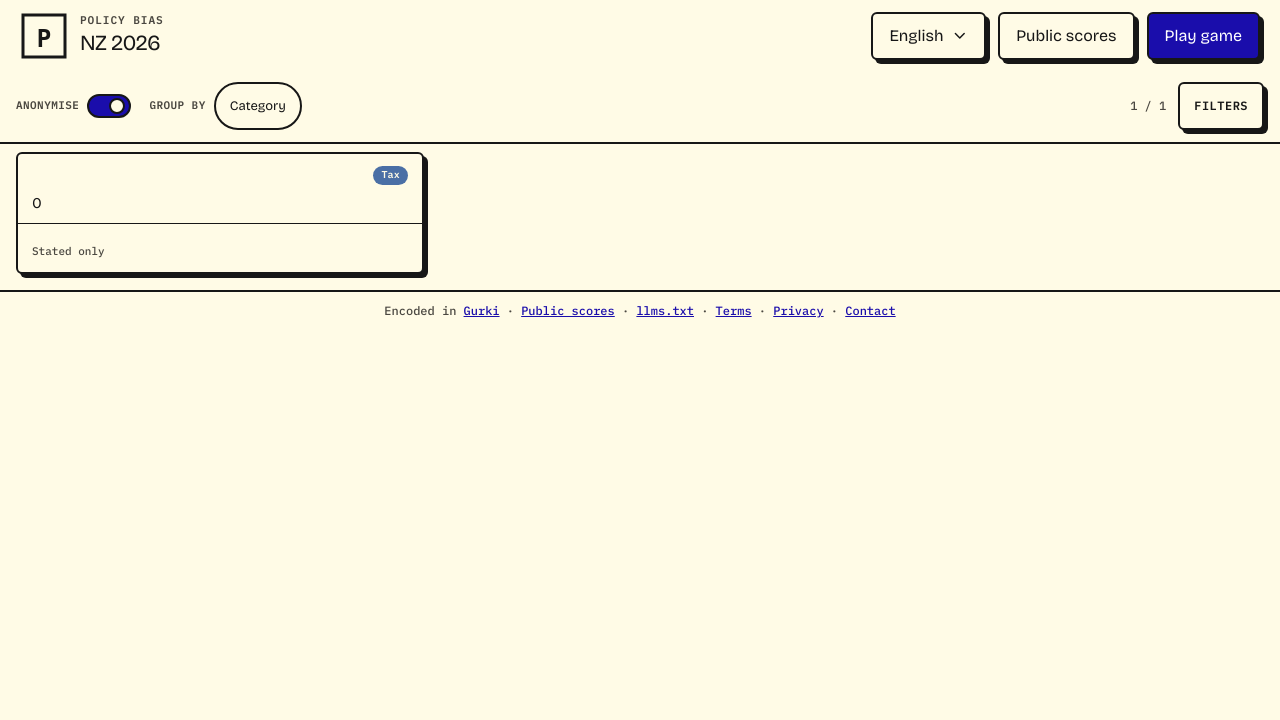
Test case: App game route › plays the game on its own url, not as a board overlay
Click the link "Play game". click: click(1203, 36)
box: [1146,12,1260,60]
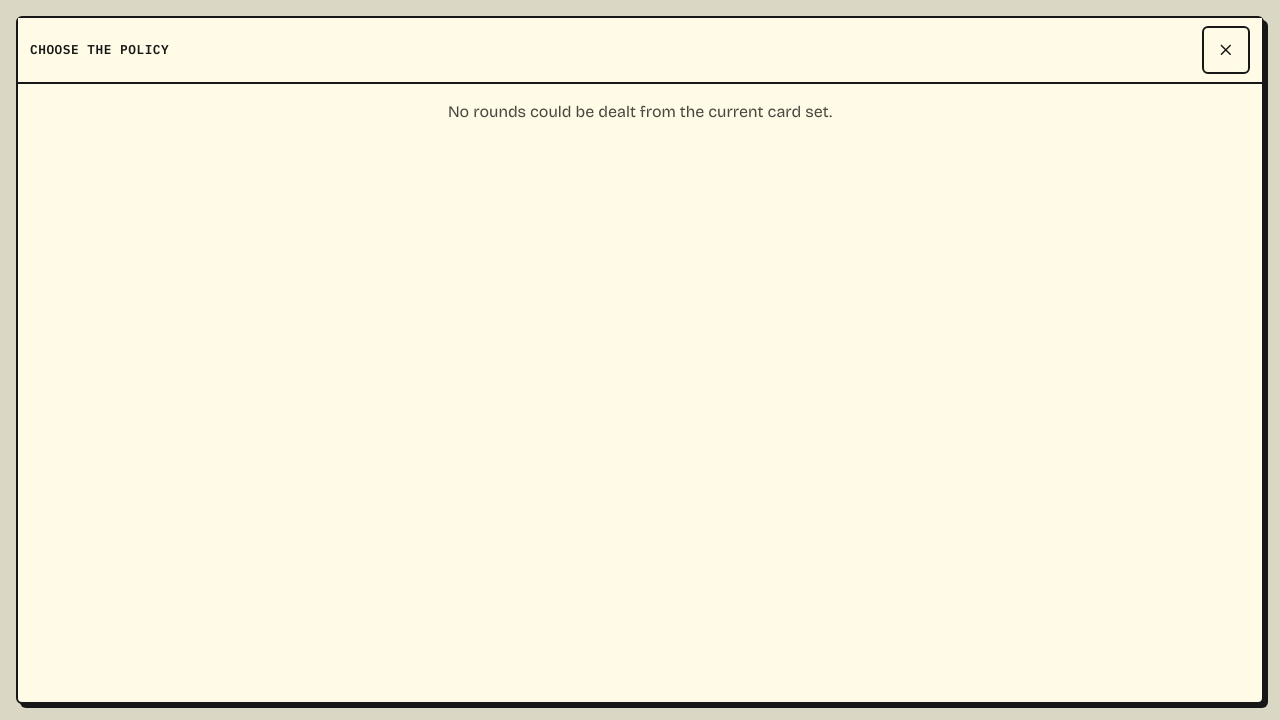
Expected: the heading "NZ 2026" is gone
Expected: the button named "Exit game" is shown, [1202,26,1250,74]
